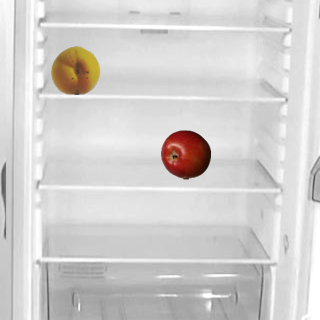Apple Braeburn: (160, 129, 210, 179)
Peach 2: (50, 44, 100, 94)
